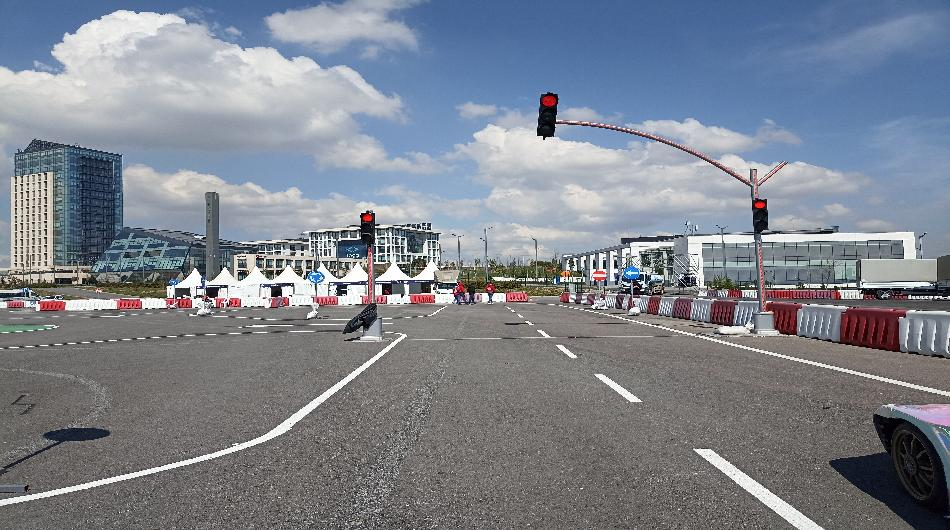red_light: (534, 90, 565, 144), (358, 210, 380, 248), (748, 197, 773, 230)
